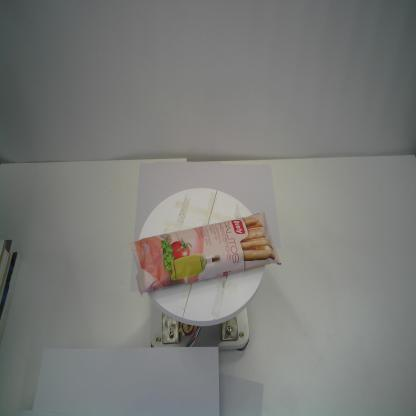Dessert: (127, 210, 284, 298)
